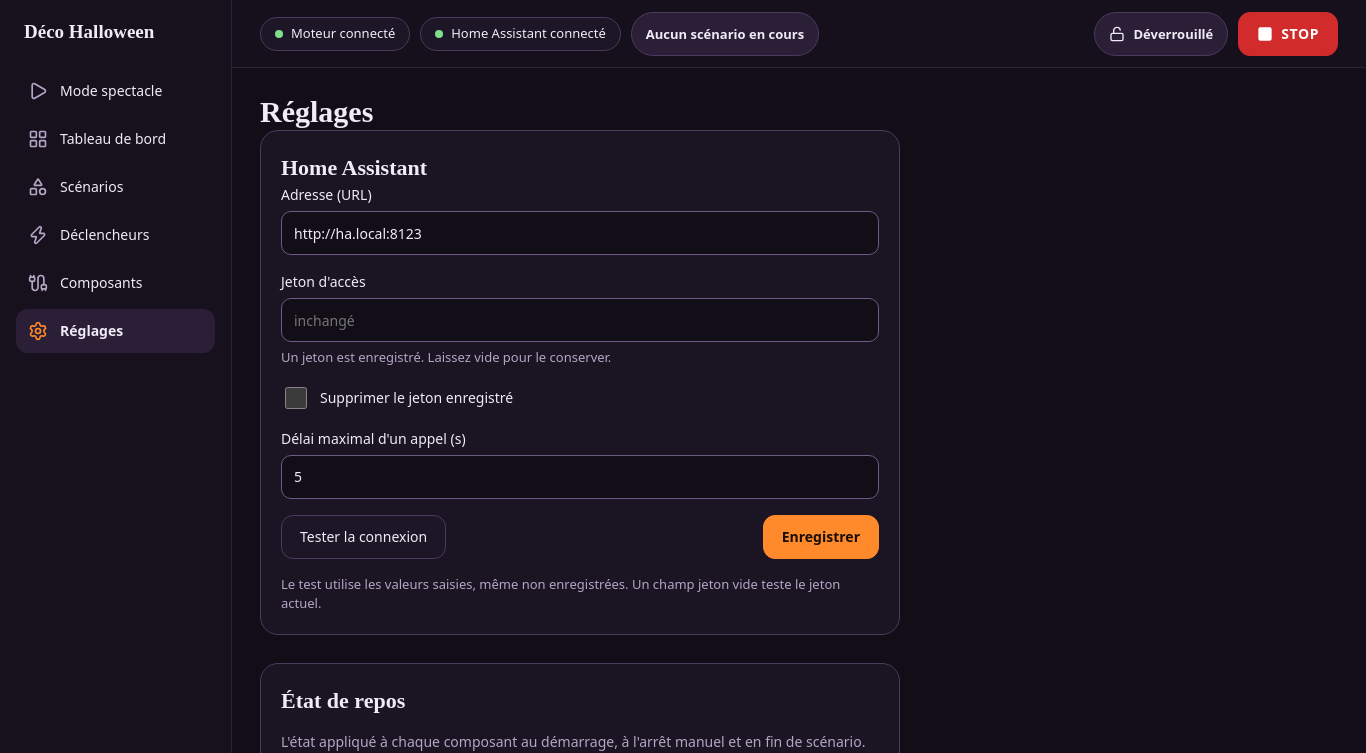
un échec « HAAuthError » est annoncé « Jeton refusé »
This screenshot has width=1366, height=753.
Expected: the field showing "http://ha.local:8123" is shown, [281,211,879,255]
Click the button "Tester la connexion".
click(364, 536)  # box [281,514,446,558]
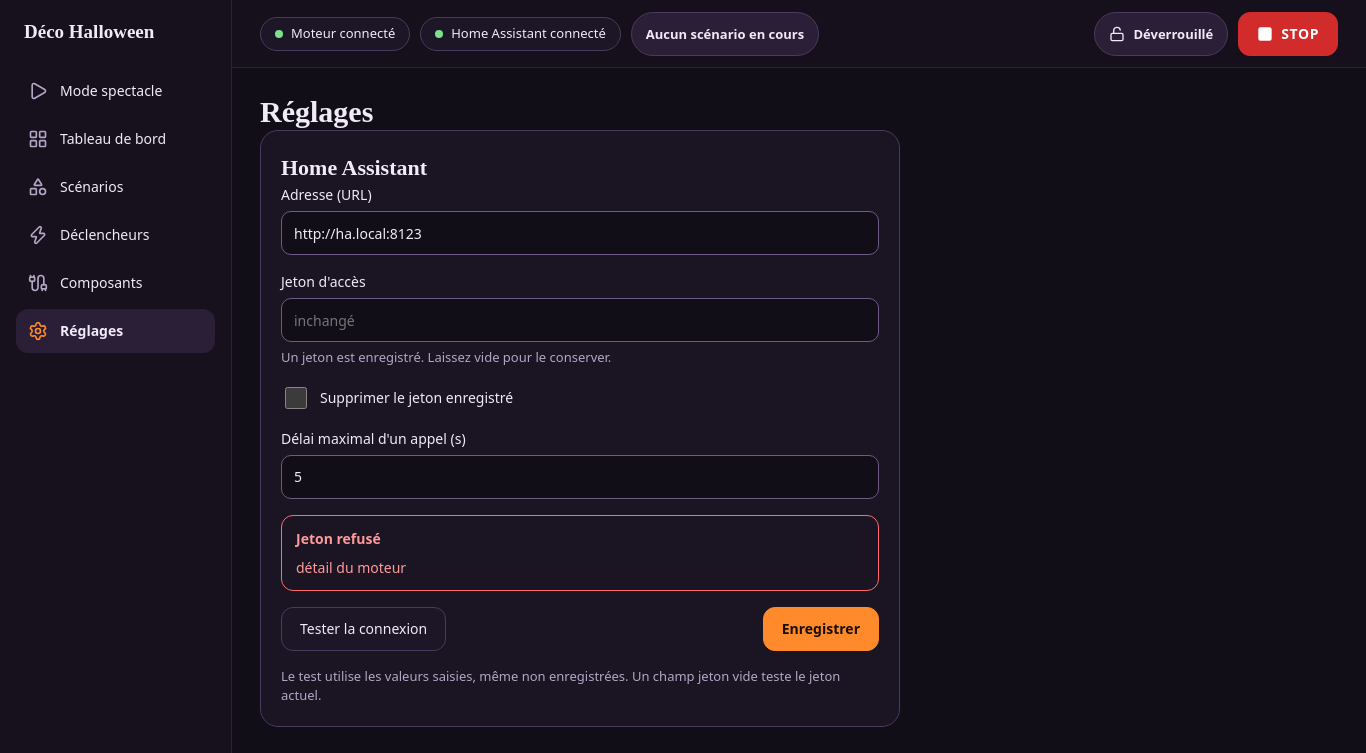
Expected: the message shows "Jeton refusé", [296,528,381,548]
Expected: the message shows "détail du moteur", [296,558,406,576]
